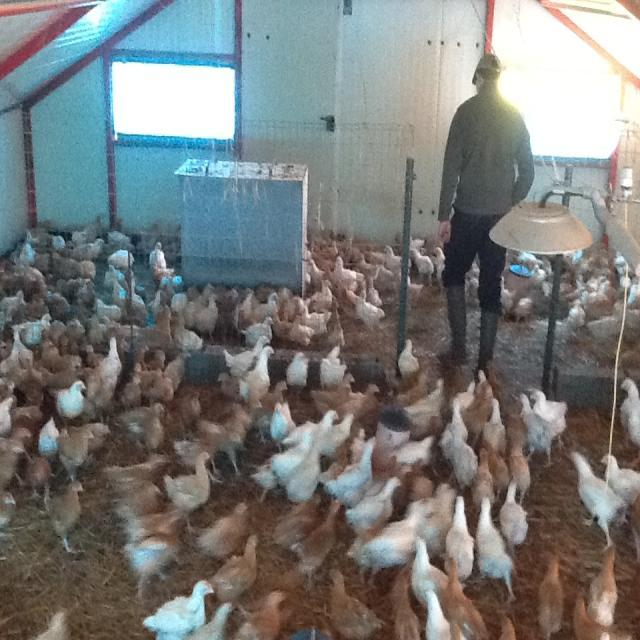poussin: (564, 444, 624, 554), (137, 571, 210, 640), (469, 490, 517, 590), (122, 524, 190, 586), (256, 420, 316, 490), (270, 478, 327, 550), (364, 502, 424, 570), (300, 495, 342, 590), (324, 566, 376, 640), (347, 471, 404, 536), (41, 478, 86, 560), (164, 446, 219, 512), (198, 494, 246, 569), (170, 429, 249, 472), (446, 559, 486, 640), (516, 388, 552, 478), (332, 436, 378, 504), (412, 482, 454, 553), (400, 372, 447, 435), (598, 446, 640, 516), (212, 534, 266, 588), (586, 542, 620, 626), (571, 586, 622, 640), (290, 440, 325, 516), (280, 408, 340, 452), (116, 501, 191, 536), (116, 471, 164, 525), (92, 336, 124, 416), (200, 404, 255, 449), (241, 342, 278, 407), (241, 587, 285, 640), (500, 476, 531, 548), (536, 558, 566, 632), (447, 428, 479, 497), (316, 410, 364, 456), (105, 452, 166, 488), (411, 533, 444, 599), (432, 392, 468, 452), (221, 328, 271, 371), (194, 598, 242, 640), (615, 378, 640, 457), (529, 384, 568, 434), (388, 577, 418, 640), (172, 309, 205, 365), (336, 382, 384, 420), (448, 498, 472, 572), (58, 426, 98, 470), (350, 286, 385, 335), (312, 375, 358, 412), (386, 434, 433, 469), (169, 384, 204, 431), (389, 369, 432, 407), (56, 379, 90, 426), (507, 426, 529, 498), (0, 433, 29, 487), (320, 342, 350, 390), (194, 294, 222, 344), (118, 270, 146, 320), (422, 582, 446, 640), (145, 402, 169, 460), (145, 361, 175, 407), (58, 272, 96, 308), (184, 278, 213, 324), (486, 440, 511, 493), (473, 444, 494, 506), (474, 366, 494, 430), (26, 450, 56, 492), (146, 302, 174, 346), (38, 359, 82, 386), (396, 276, 426, 314), (12, 304, 51, 333), (396, 337, 420, 384), (135, 340, 169, 373), (326, 292, 346, 348), (334, 258, 364, 295), (284, 343, 306, 391), (300, 302, 332, 335), (120, 396, 144, 439), (304, 248, 328, 290), (0, 393, 18, 448), (290, 312, 316, 349), (18, 266, 48, 298), (216, 362, 242, 398), (103, 313, 139, 339), (73, 211, 104, 241), (254, 290, 281, 324), (1, 333, 22, 376), (32, 216, 53, 258), (412, 242, 432, 286), (489, 394, 504, 451), (42, 409, 60, 456), (166, 348, 186, 390), (240, 320, 274, 344), (62, 319, 85, 354), (453, 376, 475, 412), (42, 336, 64, 372), (46, 312, 66, 351), (148, 240, 170, 275), (308, 277, 332, 309), (73, 237, 106, 260), (48, 287, 74, 316), (156, 274, 182, 303), (126, 363, 142, 410), (105, 245, 136, 269), (568, 299, 588, 336), (15, 230, 35, 265), (272, 306, 292, 340), (94, 294, 121, 319), (106, 230, 130, 258), (432, 242, 446, 290), (234, 292, 256, 322), (572, 255, 596, 282), (11, 417, 34, 445), (356, 256, 379, 283), (89, 312, 106, 348), (614, 250, 632, 284), (517, 292, 536, 324), (383, 242, 402, 273), (14, 402, 42, 423), (501, 274, 514, 319), (577, 288, 606, 308), (52, 250, 76, 274), (280, 288, 300, 316), (466, 267, 480, 306), (1, 290, 25, 312), (152, 260, 176, 282), (75, 258, 98, 280), (498, 612, 516, 640), (526, 264, 548, 286), (2, 258, 18, 286), (516, 250, 544, 266), (103, 263, 123, 285), (406, 231, 427, 251), (109, 278, 125, 304), (628, 276, 640, 310), (574, 272, 592, 294), (540, 277, 554, 302), (52, 232, 66, 252)
